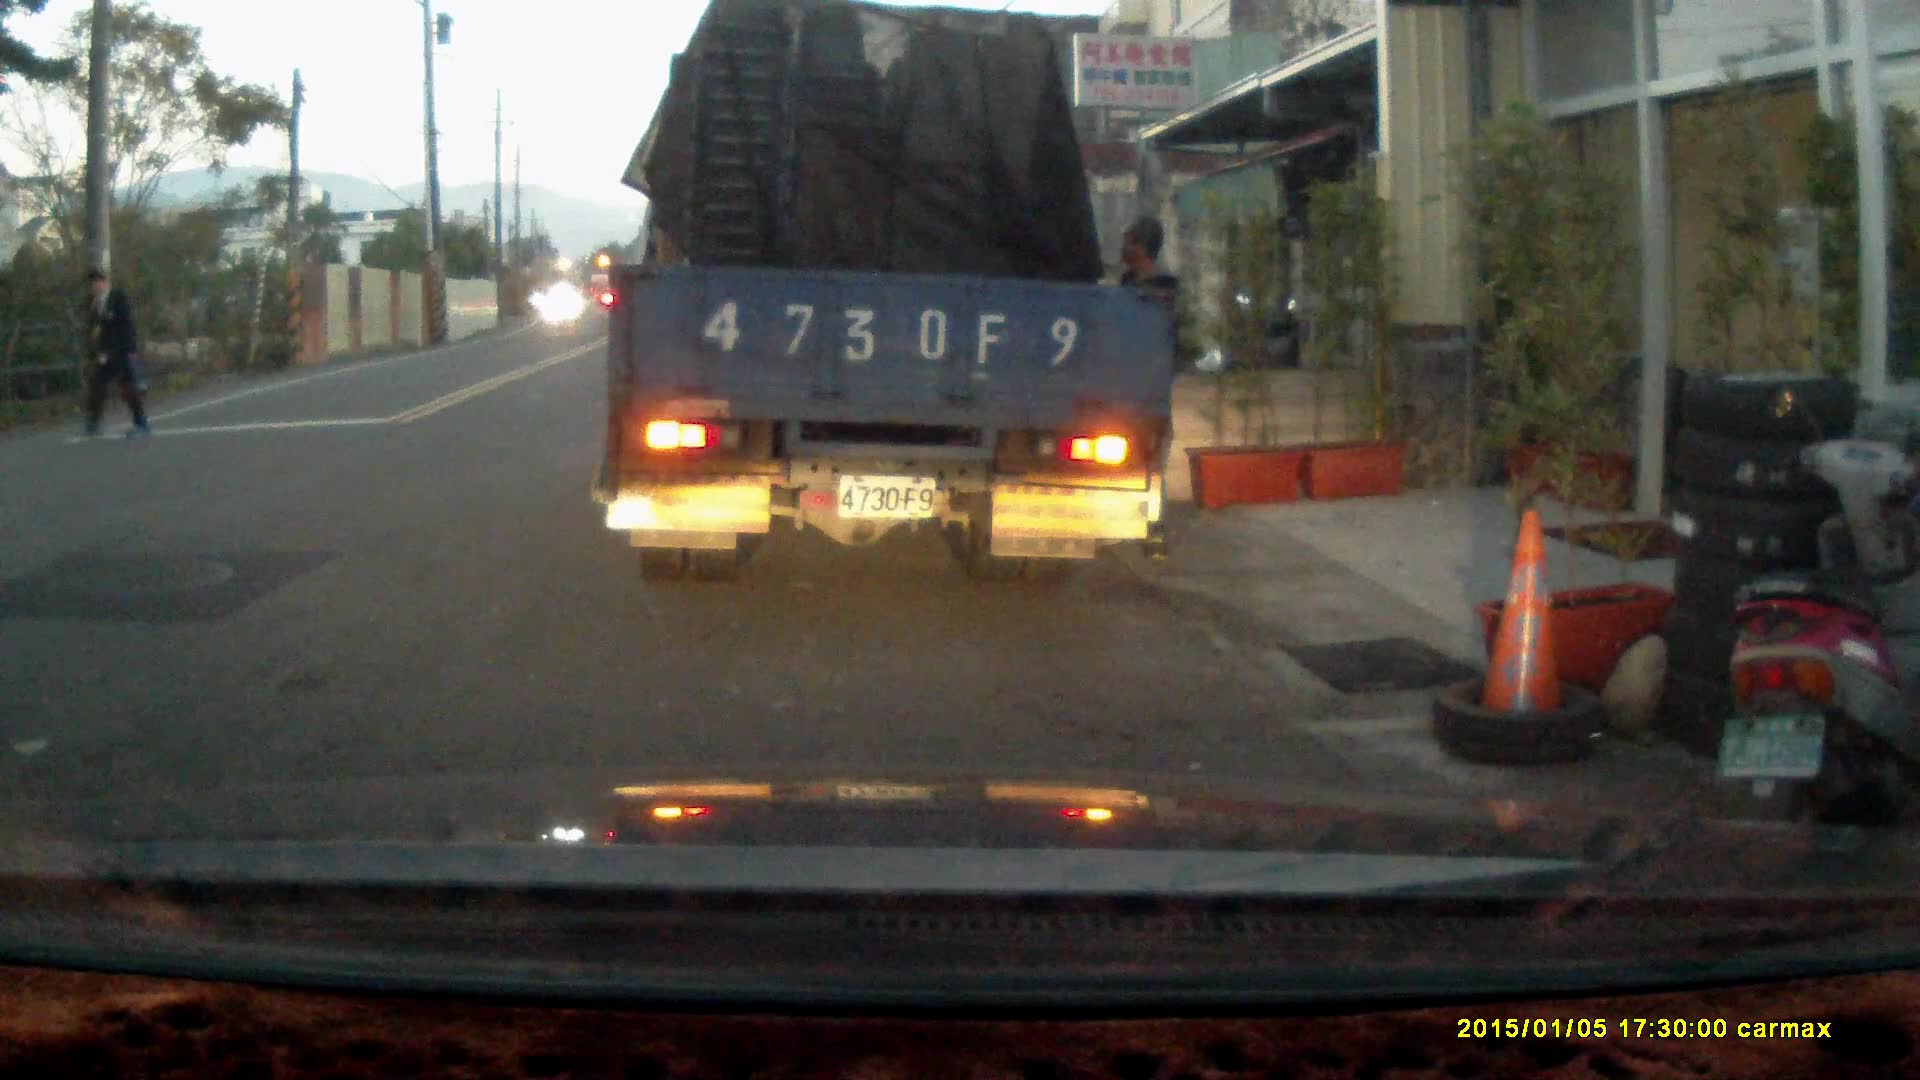pedestrian: (1092, 211, 1185, 564), (72, 268, 155, 447)
vehicle: (605, 23, 1188, 572)
